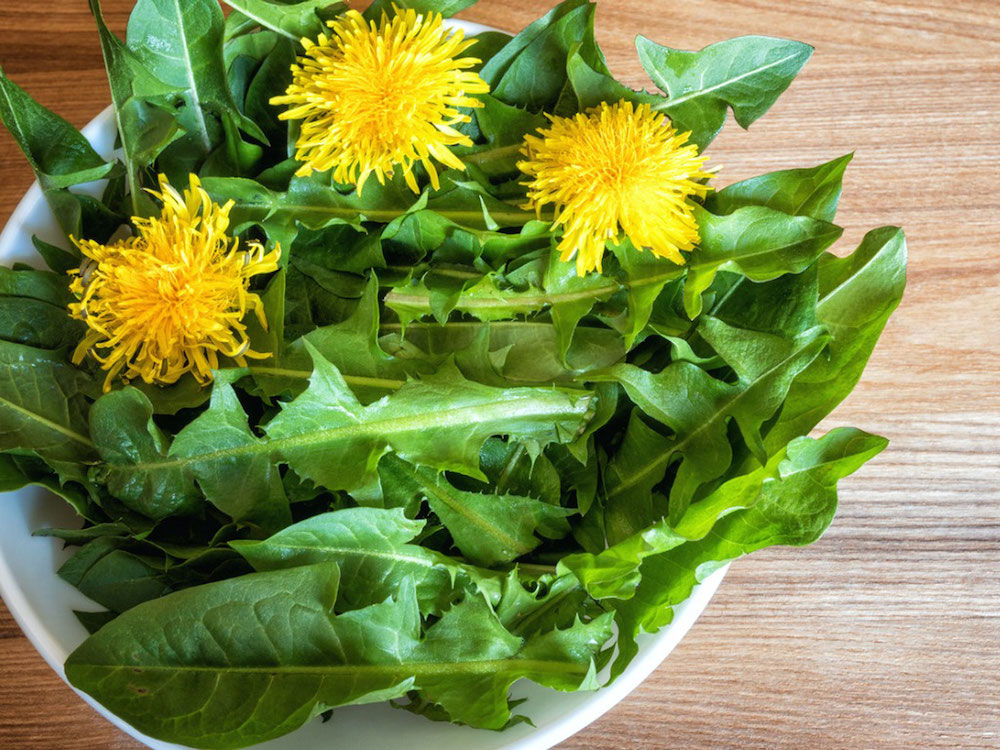begonvil: (53, 176, 292, 400), (275, 0, 498, 209), (519, 92, 718, 277)
